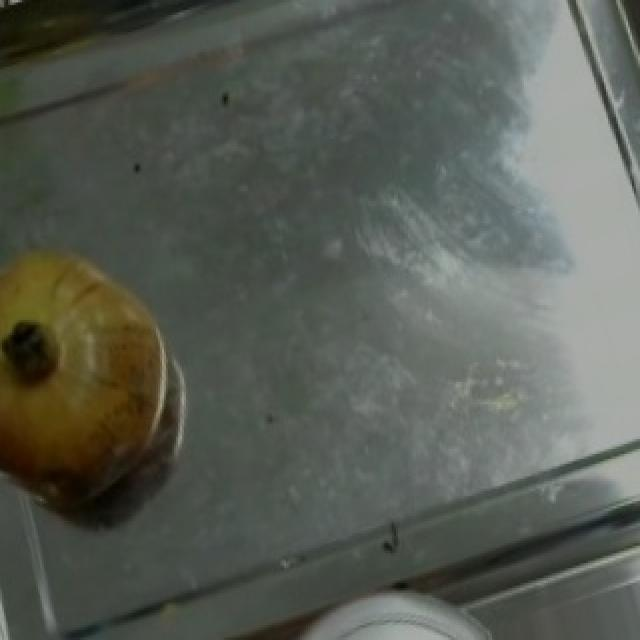fruit: (0, 253, 204, 536)
